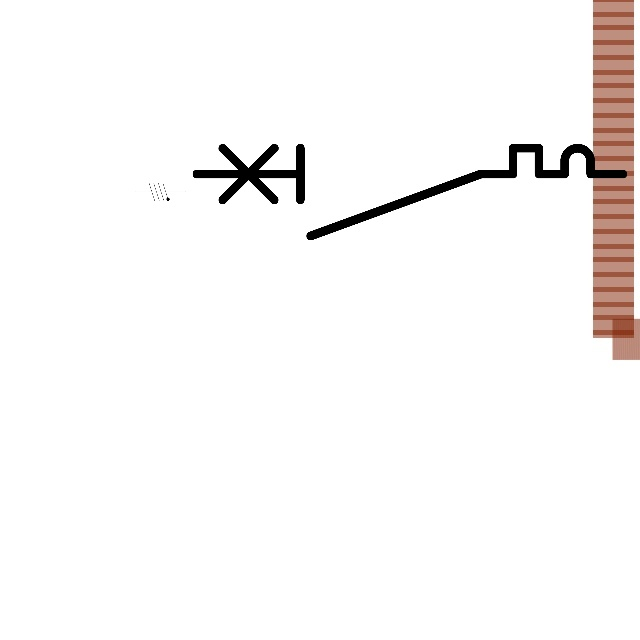interruptor_termomagnetico: (185, 137, 634, 247)
